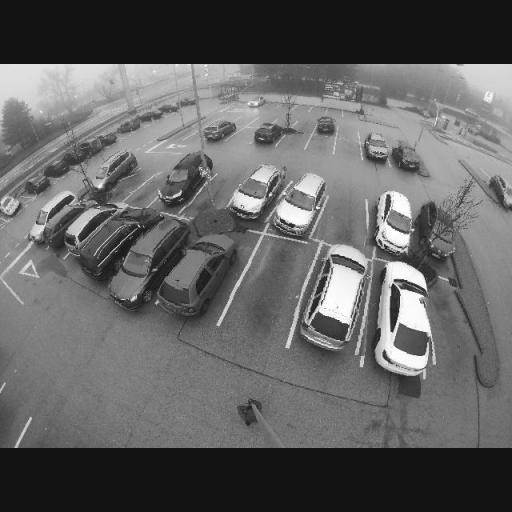busy: (297, 240, 375, 355), (372, 257, 441, 381), (108, 210, 188, 313), (159, 232, 239, 318), (75, 209, 144, 277), (272, 169, 331, 239), (366, 186, 421, 257), (154, 150, 212, 208), (226, 164, 281, 222), (28, 190, 81, 248), (60, 205, 118, 253), (413, 201, 459, 260), (86, 150, 138, 192), (362, 132, 394, 164), (487, 174, 512, 214), (394, 142, 424, 175), (201, 121, 237, 143), (254, 123, 282, 147), (0, 193, 26, 218), (24, 173, 53, 195), (316, 116, 337, 136), (119, 116, 142, 134), (139, 108, 165, 122), (158, 101, 182, 115), (246, 96, 264, 109)
free: (422, 290, 480, 363), (244, 262, 300, 316), (326, 206, 367, 236), (206, 184, 234, 208), (133, 181, 160, 200), (118, 171, 140, 194), (337, 141, 359, 157), (340, 124, 359, 142), (192, 128, 213, 144), (284, 136, 306, 149), (248, 117, 270, 128), (236, 132, 254, 145), (314, 139, 332, 151), (296, 121, 314, 132), (266, 102, 280, 111)
